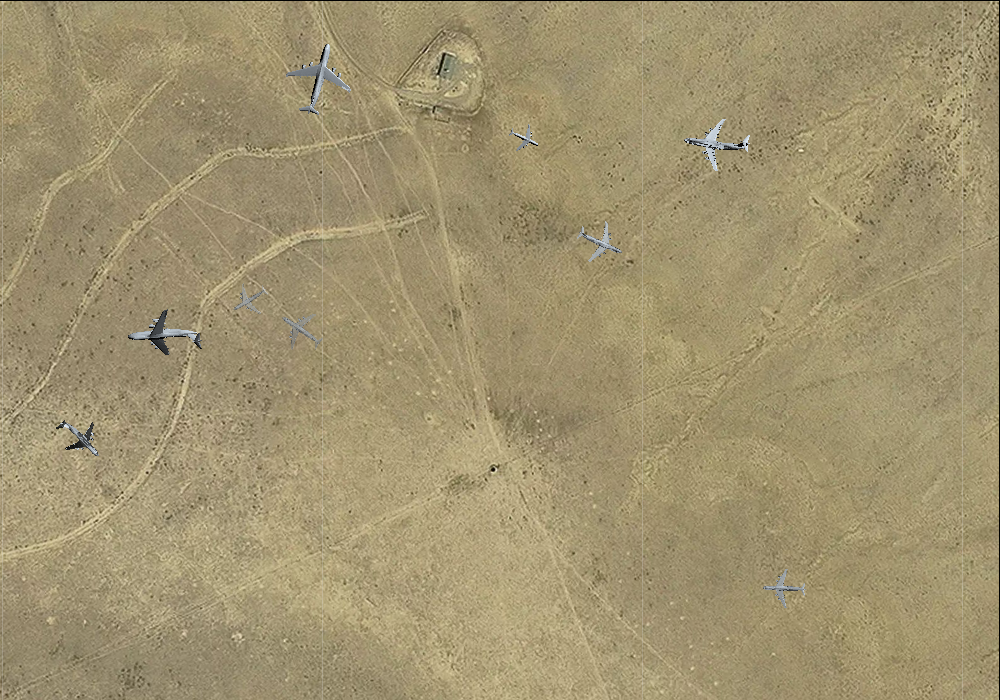plane: (275, 34, 360, 122), (124, 303, 204, 372), (679, 106, 754, 177), (44, 404, 113, 473), (269, 299, 333, 362), (568, 211, 631, 272), (223, 274, 275, 324), (762, 567, 806, 609), (503, 117, 545, 158)
